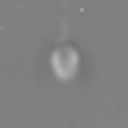normal: (58, 1, 74, 42)
